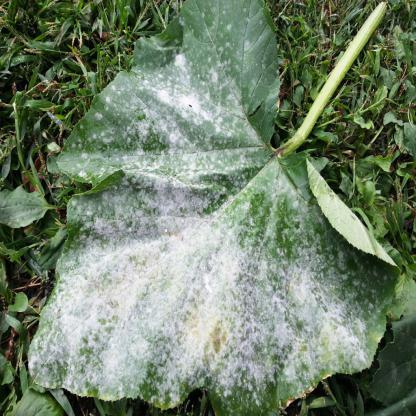Squash Powdery mildew leaf: (23, 0, 394, 404)
